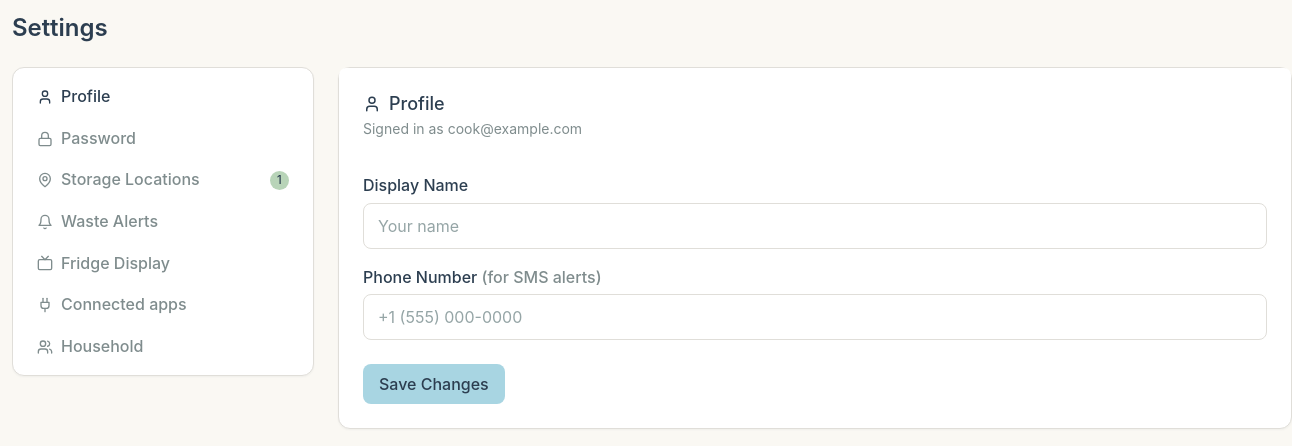
Settings connected apps panel › opens Connected apps from the sidebar
Click the button "Connected apps" at (112, 304), box [37, 294, 187, 314]
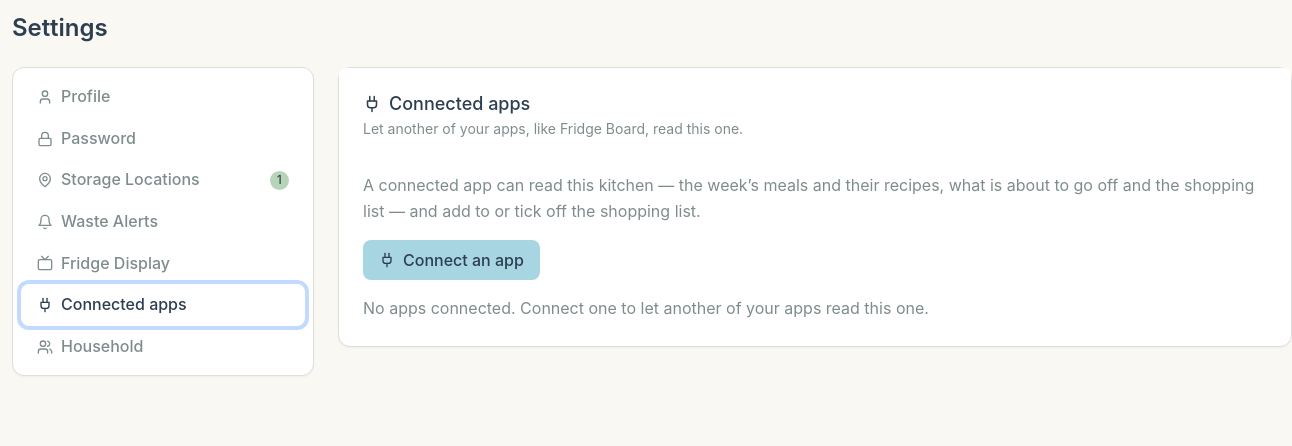
Expected: the element with test id "connected-apps" is shown, [363, 173, 1267, 322]
Expected: the text "No apps connected" is shown, [363, 298, 929, 318]
